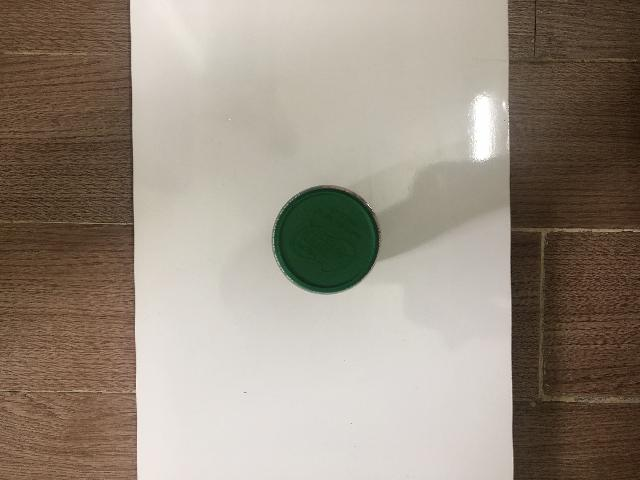milo: (272, 186, 381, 295)
